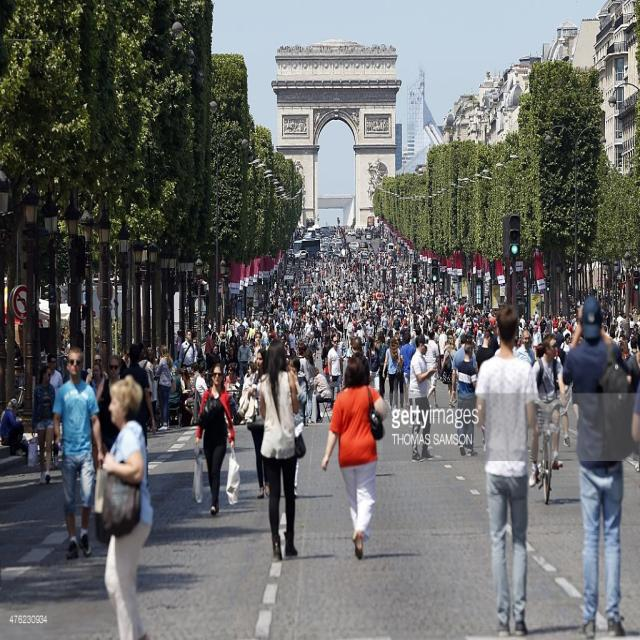body: (172, 222, 639, 348), (560, 295, 634, 639), (472, 304, 544, 638), (92, 373, 156, 639), (320, 355, 388, 560), (50, 346, 106, 562), (256, 336, 306, 563), (190, 363, 242, 518), (528, 331, 564, 494), (237, 347, 271, 498), (407, 334, 437, 464), (26, 366, 56, 486), (94, 354, 124, 454), (288, 354, 308, 500), (456, 342, 480, 457), (290, 546, 421, 562), (46, 353, 64, 469), (152, 343, 173, 432), (450, 334, 477, 403), (627, 334, 640, 470), (380, 334, 402, 412), (0, 396, 26, 456), (399, 330, 417, 411), (327, 334, 344, 414), (0, 330, 23, 389), (441, 334, 459, 406), (425, 329, 441, 408), (312, 366, 333, 424), (296, 341, 310, 426), (518, 618, 592, 634), (166, 365, 183, 428), (0, 401, 22, 448), (350, 336, 371, 385), (288, 484, 338, 503), (304, 346, 316, 424), (178, 329, 198, 375), (137, 347, 155, 397), (236, 334, 252, 390), (184, 361, 200, 415), (475, 329, 494, 372), (366, 334, 380, 392), (84, 352, 110, 383), (515, 329, 536, 367), (367, 462, 401, 485), (345, 335, 365, 373), (320, 334, 334, 385), (539, 493, 581, 507), (225, 344, 241, 378), (194, 363, 209, 399), (223, 362, 239, 390), (119, 346, 132, 380), (90, 366, 105, 394), (179, 367, 194, 392), (243, 360, 254, 382), (211, 345, 221, 364)
